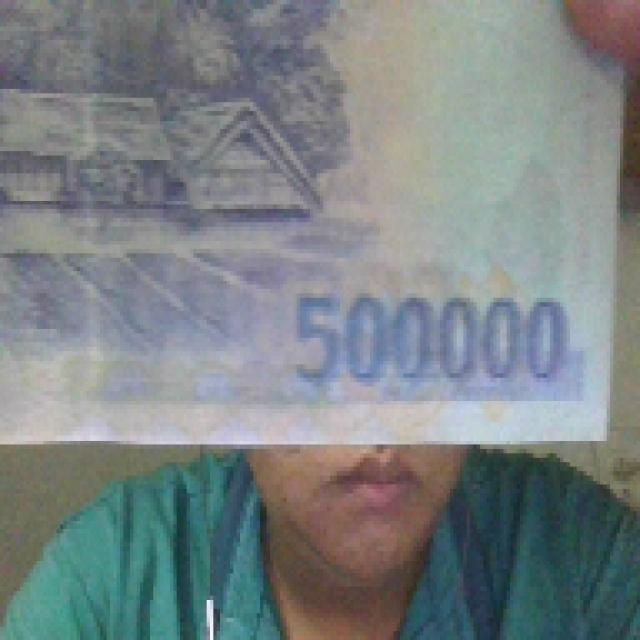500 000 VND: (0, 0, 623, 449)
